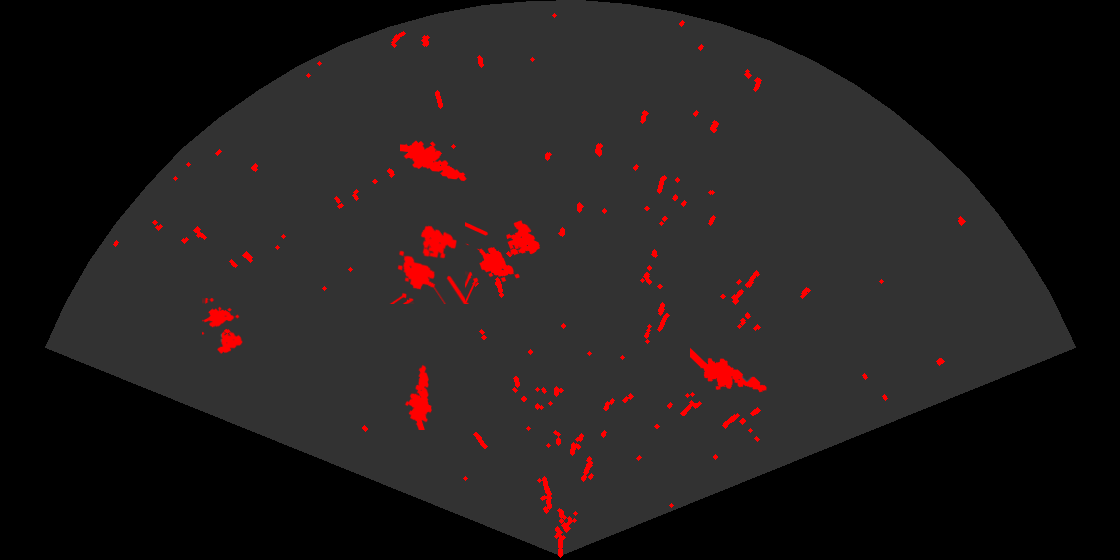cage: (388, 224, 470, 304), (465, 219, 542, 303), (202, 298, 244, 355)
frogman: (690, 346, 768, 394), (400, 139, 468, 183), (403, 363, 433, 430)
